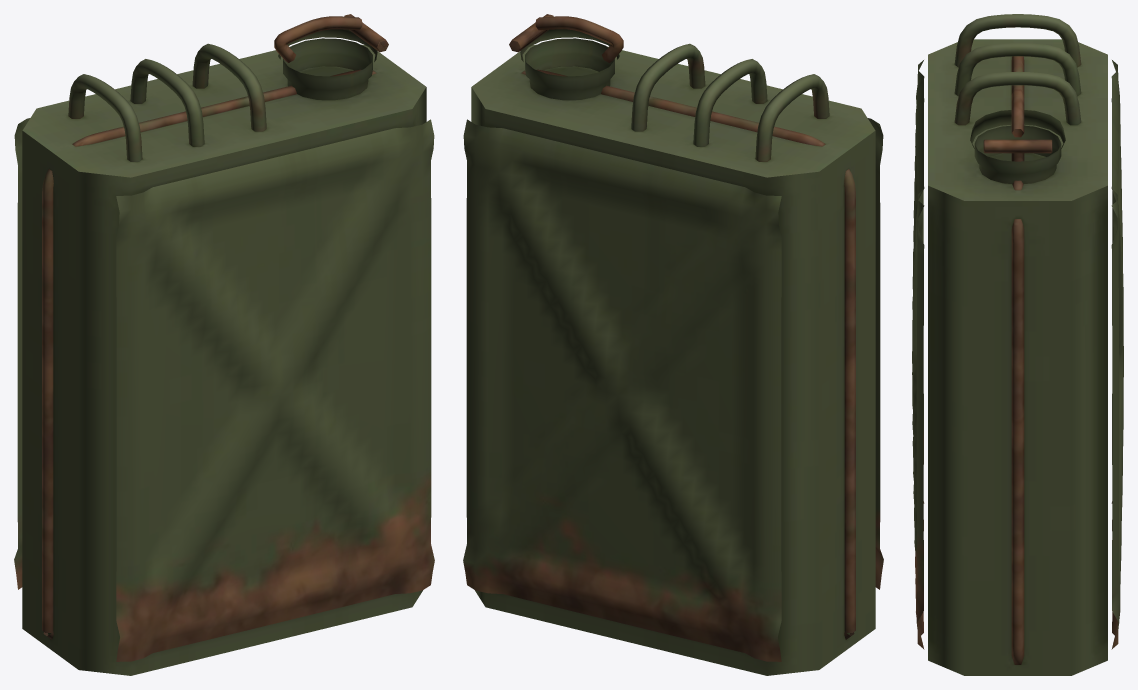
The model's file is jerrycan.glb.
The picture shows the model from 3 angles, left to right: view 1: azimuth 30°, elevation 25°; view 2: azimuth 150°, elevation 25°; view 3: azimuth 270°, elevation 25°; orthographic projection. The views are drawn at different scales.
Visible parts, largest first — view 1: jerrycan; view 2: jerrycan; view 3: jerrycan.
Boxes of the visible parts, x1=… form: jerrycan: x1=14, y1=14, x2=434, y2=675; jerrycan: x1=463, y1=14, x2=883, y2=675; jerrycan: x1=912, y1=14, x2=1123, y2=675.
Bounding box in the file's own units: 0.3495 × 0.5257 × 0.186.
1 material, 1 textured.
